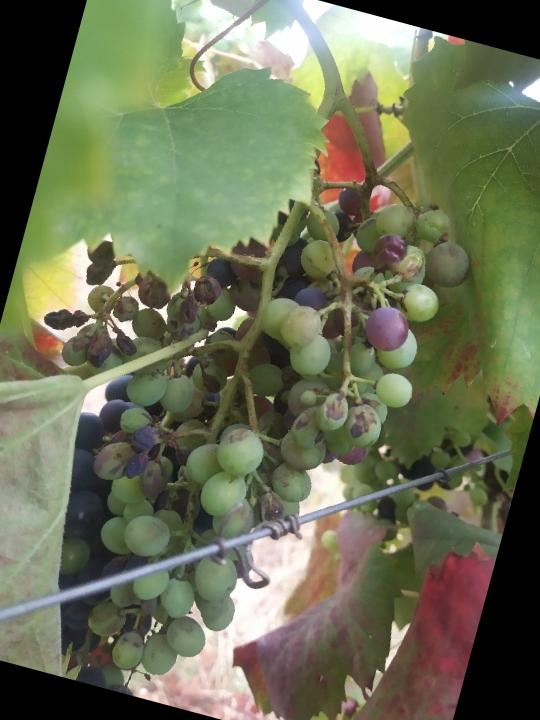grape: (0, 111, 488, 720)
